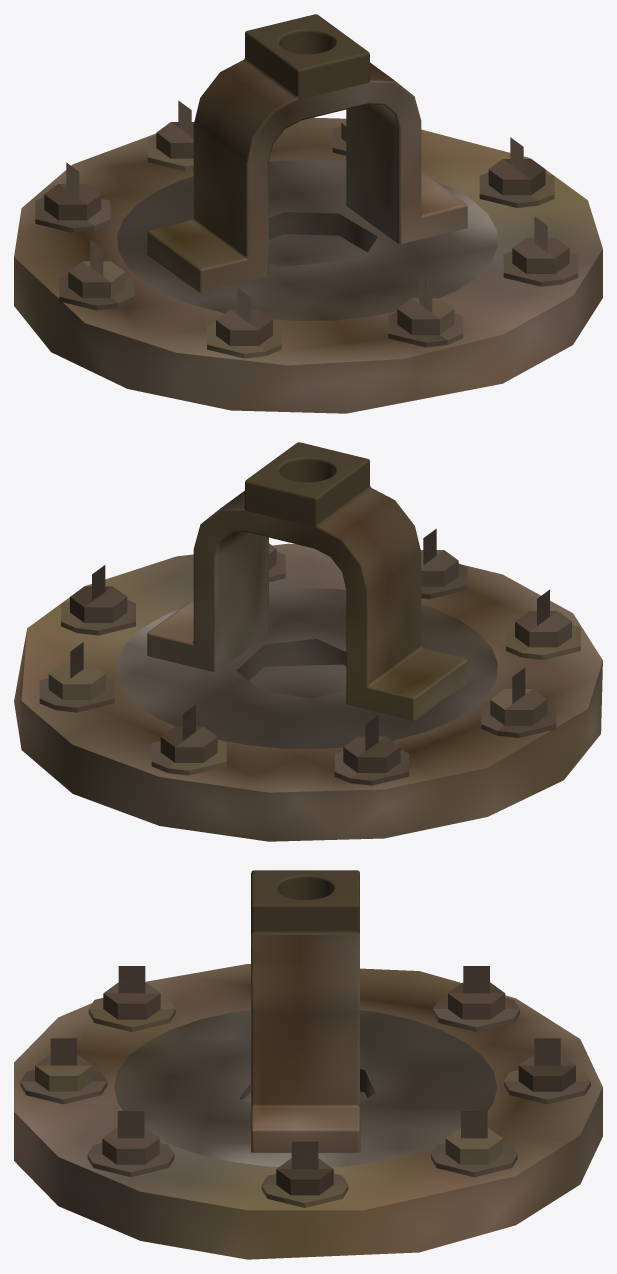
File: pipe-floor-bracket.gltf
3 renders of one model, top to bottom at view 1: azimuth 30°, elevation 25°; view 2: azimuth 150°, elevation 25°; view 3: azimuth 270°, elevation 25°, orthographic.
Visible parts, largest first — view 1: Cylinder.001; view 2: Cylinder.001; view 3: Cylinder.001.
Part boxes in pixels (x1,y1,x2,y2): Cylinder.001: (14,14,602,413); Cylinder.001: (14,442,602,841); Cylinder.001: (14,870,602,1259).
Size of the model in its own units: 0.2784 by 0.13 by 0.2784.
1 material, 1 textured.
